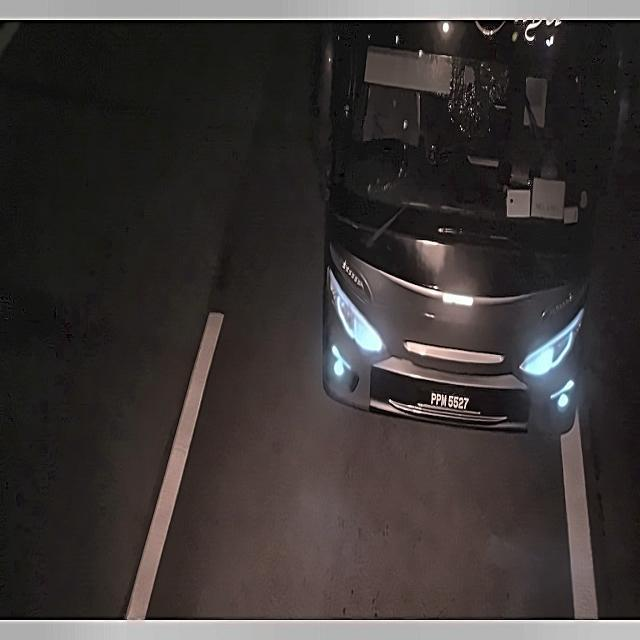car: (420, 379, 476, 419)
